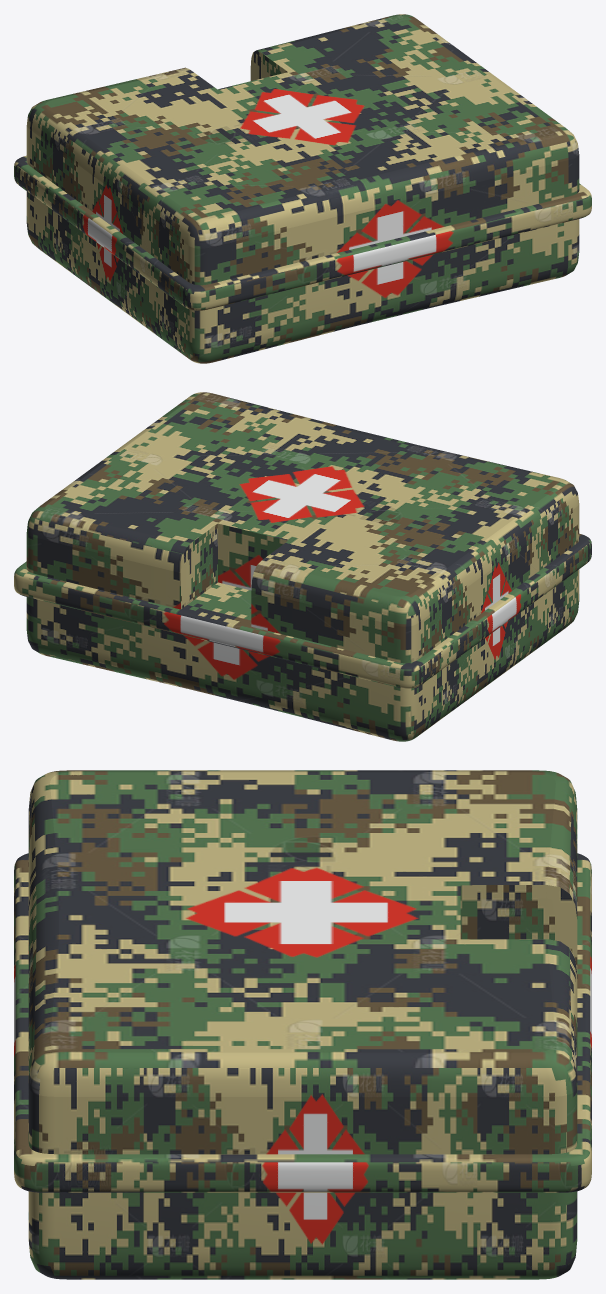
File: jyjjb.FBX
3 views of the same model, one above another, from view 1: azimuth 30°, elevation 25°; view 2: azimuth 150°, elevation 25°; view 3: azimuth 270°, elevation 25° (orthographic). The views are drawn at different scales.
Visible parts, largest first — view 1: Box009; view 2: Box009; view 3: Box009.
Boxes of the visible parts, left/top/right/bottom form: Box009: left=14, top=14, right=591, bottom=363; Box009: left=14, top=392, right=591, bottom=741; Box009: left=14, top=770, right=591, bottom=1279.
Bounding box in the file's own units: 0.1927 × 0.0651 × 0.1514.
